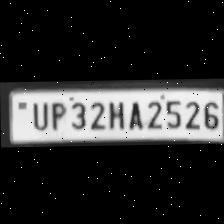2: (86, 98, 106, 130), (142, 98, 162, 130), (182, 97, 200, 128)
3: (66, 97, 86, 128)
5: (162, 96, 182, 128)
6: (198, 98, 220, 130)
A: (124, 97, 142, 128)
H: (105, 97, 124, 129)
P: (46, 98, 66, 130)
U: (27, 99, 49, 128)
